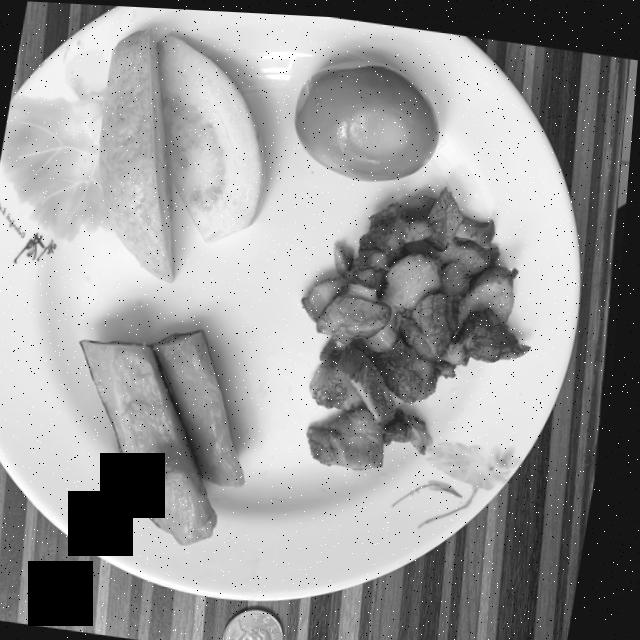coin: (233, 606, 293, 640)
grilled pork: (307, 182, 535, 465)
guava -sliced-: (101, 28, 267, 280)
pumpkin: (86, 328, 253, 542)
soy egg: (296, 57, 440, 177)
